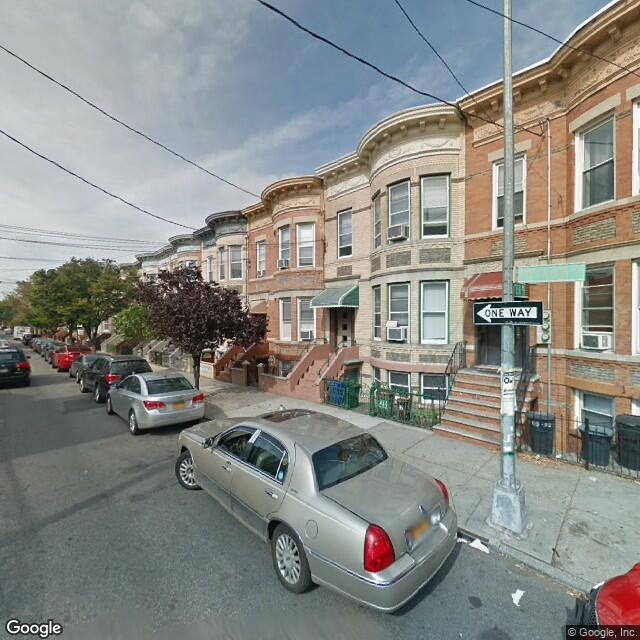litter: (504, 574, 545, 611), (454, 534, 492, 558), (584, 473, 601, 484)
